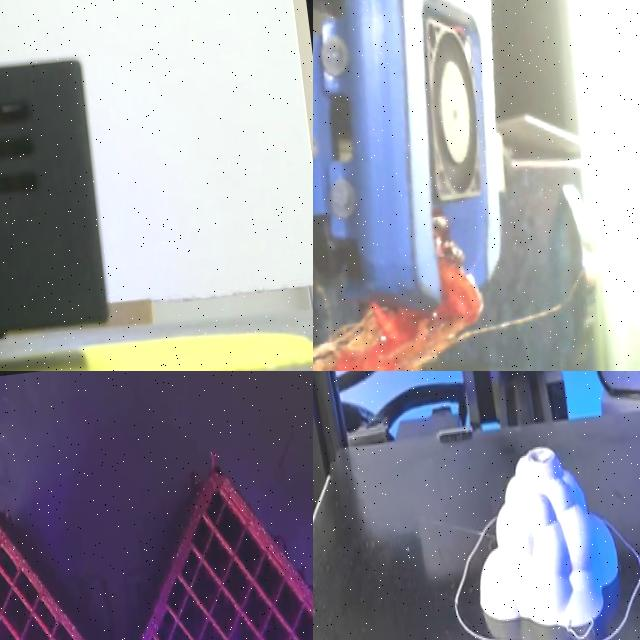spaghetti: (313, 211, 483, 371), (313, 241, 482, 371)
